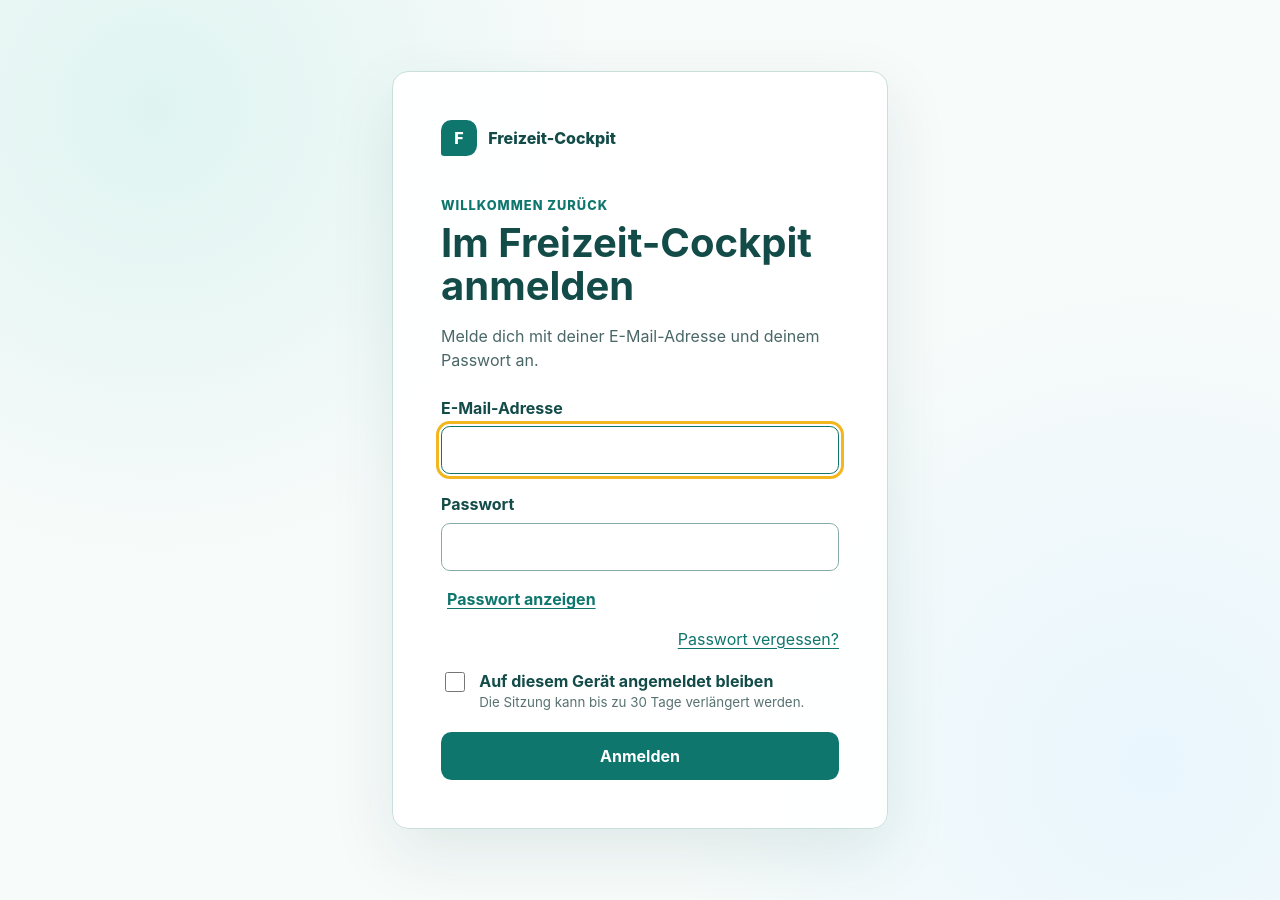
Scenario: identity self-service pages › returns to the requested internal page after login
The image size is (1280, 900).
Type "lea@example.test" into the field labelled "E-Mail-Adresse". click: (640, 450)
box: [441,426,839,474]
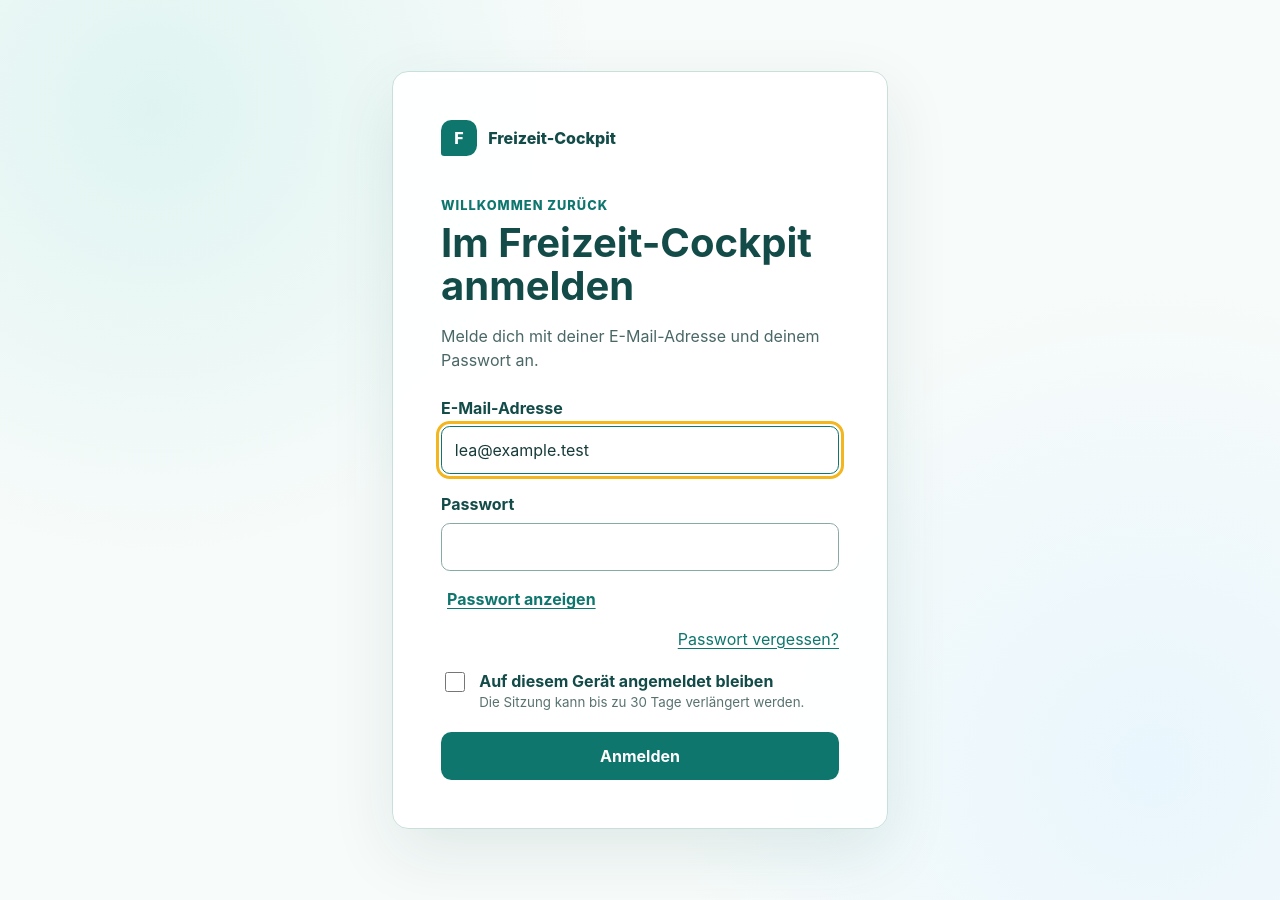
Type "Eine sichere Passphrase" into the password field labelled "Passwort". click: (640, 547)
box: [441,523,839,571]
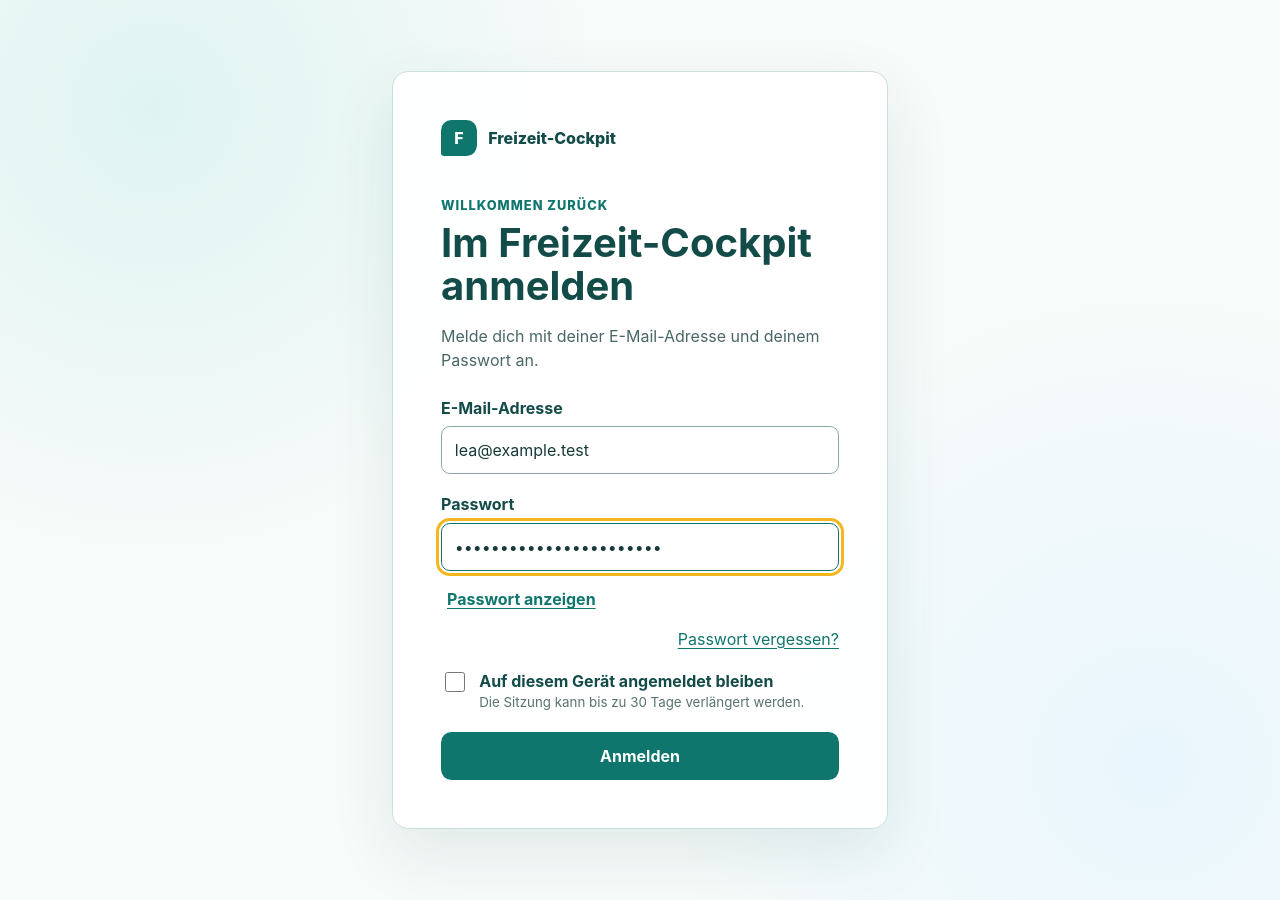
Click the button "Anmelden". click: (640, 756)
box: [441,732,839,780]
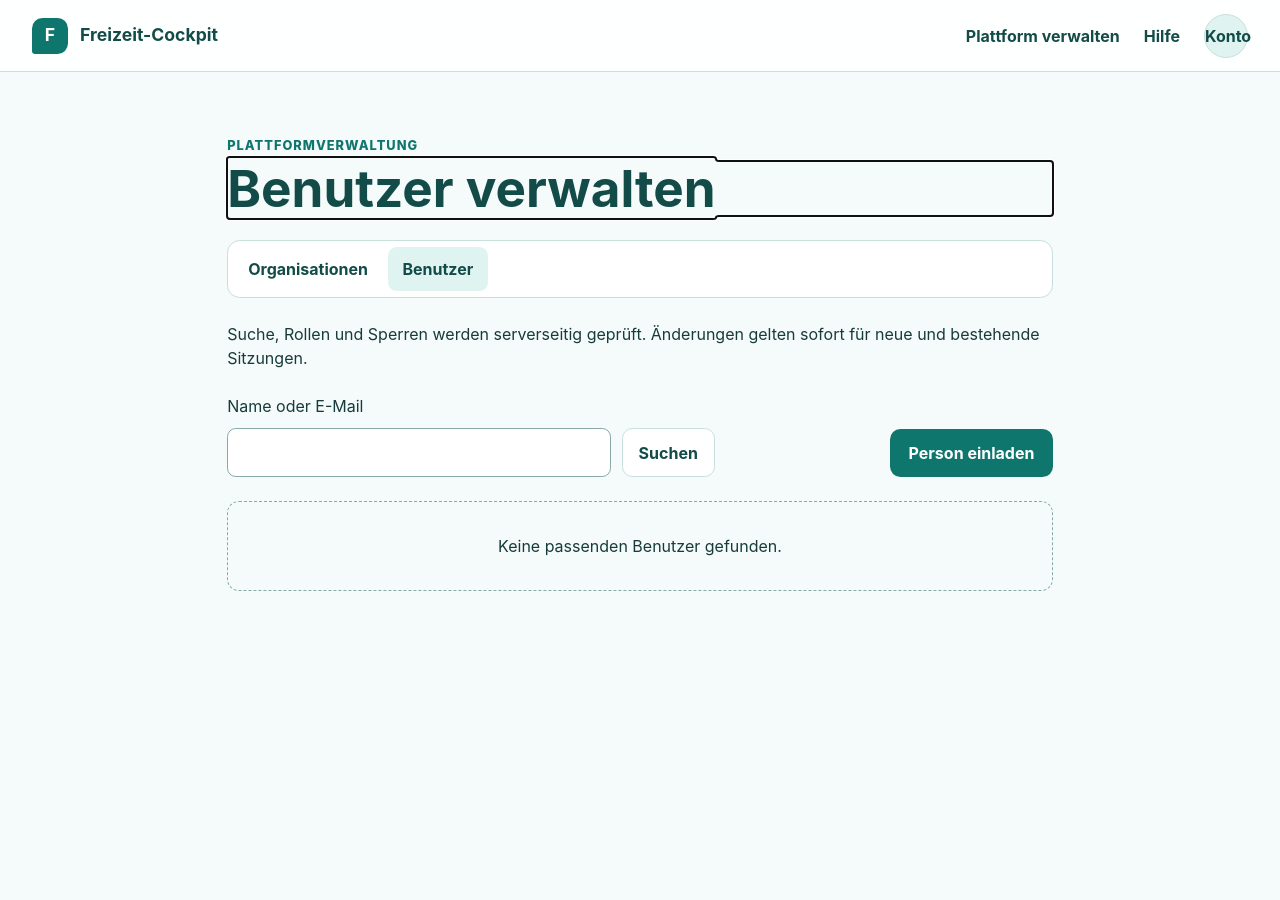
Result: the heading "Benutzer verwalten" is shown at [227,157,716,219]
